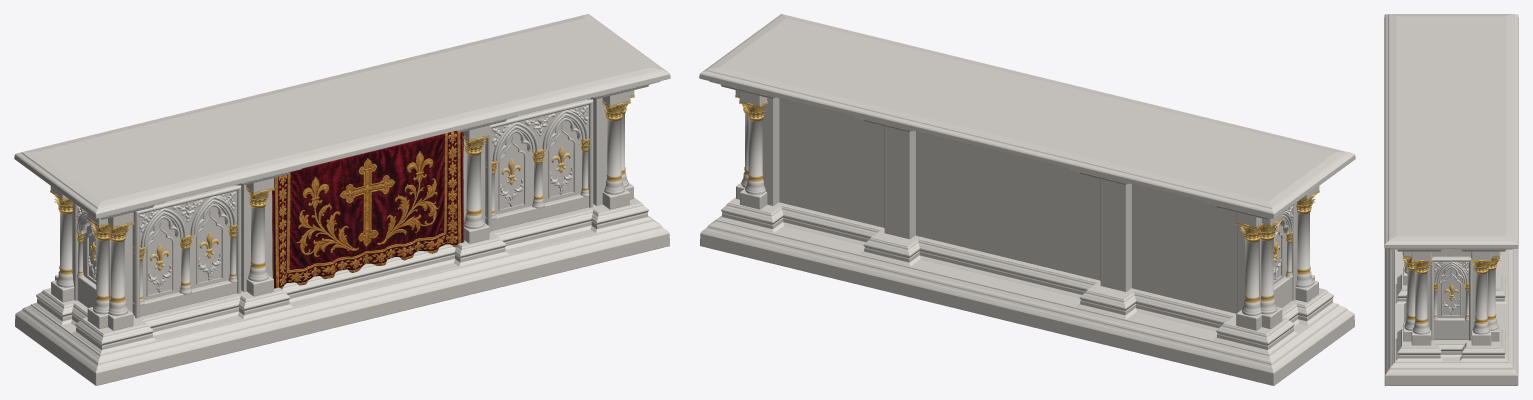
Rendered from altar.glb.
3 renders of one model, left to right at view 1: azimuth 30°, elevation 25°; view 2: azimuth 150°, elevation 25°; view 3: azimuth 270°, elevation 25°, orthographic. The views are drawn at different scales.
Parts seen in each view (by area): view 1: Altar.Mensa, Altar.Plinth, Frontal, Altar.Base, Altar.Body, Altar.BayFrontL.Arcade, Altar.BayFrontR.Arcade, Altar.BayFrontL.Ground, Altar.BayFrontR.Ground, Altar.BayFrontL.Frame, Altar.BayFrontR.Frame, Altar.BayFrontR.Arch0.Panel (+14 smaller); view 2: Altar.Body, Altar.Mensa, Altar.Plinth, Altar.Base, Altar.PierShaft.6.7, Altar.PierShaft.2.6, Altar.PierShaft.0.2, Altar.PierShaft.2.4, Altar.Frieze; view 3: Altar.Mensa, Altar.Plinth, Altar.Base, Altar.BayEndR.Arcade, Altar.Body, Altar.PierShaft.6.5, Altar.PierShaft.4.3, Altar.BayEndR.Frame, Altar.BayEndR.Arch0.Panel, Altar.PierShaft.4.1, Altar.PierShaft.6.7, Altar.BayEndR.Ground (+10 smaller).
Part boxes in pixels (bbox=[...]): Altar.Mensa: bbox=[14, 14, 670, 218]; Altar.Plinth: bbox=[15, 215, 669, 385]; Frontal: bbox=[272, 131, 464, 288]; Altar.Base: bbox=[33, 197, 651, 353]; Altar.Body: bbox=[72, 97, 607, 312]; Altar.BayFrontL.Arcade: bbox=[132, 185, 236, 316]; Altar.BayFrontR.Arcade: bbox=[485, 99, 588, 230]; Altar.BayFrontL.Ground: bbox=[143, 206, 229, 300]; Altar.BayFrontR.Ground: bbox=[495, 120, 581, 214]; Altar.BayFrontL.Frame: bbox=[135, 185, 241, 318]; Altar.BayFrontR.Frame: bbox=[487, 99, 593, 232]; Altar.BayFrontR.Arch0.Panel: bbox=[548, 124, 575, 198]; Altar.Body: bbox=[762, 97, 1297, 313]; Altar.Mensa: bbox=[699, 14, 1355, 218]; Altar.Plinth: bbox=[700, 215, 1354, 385]; Altar.Base: bbox=[718, 197, 1336, 353]; Altar.PierShaft.6.7: bbox=[745, 120, 765, 194]; Altar.PierShaft.2.6: bbox=[1241, 241, 1261, 315]; Altar.PierShaft.0.2: bbox=[1296, 213, 1313, 287]; Altar.PierShaft.2.4: bbox=[1260, 239, 1277, 314]; Altar.Frieze: bbox=[709, 81, 1271, 219]; Altar.Mensa: bbox=[1384, 14, 1518, 248]; Altar.Plinth: bbox=[1384, 248, 1518, 385]; Altar.Base: bbox=[1395, 258, 1507, 361]; Altar.BayEndR.Arcade: bbox=[1432, 256, 1470, 339]; Altar.Body: bbox=[1415, 248, 1487, 329]; Altar.PierShaft.6.5: bbox=[1472, 273, 1490, 334]; Altar.PierShaft.4.3: bbox=[1412, 273, 1430, 334]; Altar.BayEndR.Frame: bbox=[1430, 258, 1472, 340]; Altar.BayEndR.Arch0.Panel: bbox=[1441, 269, 1461, 315]; Altar.PierShaft.4.1: bbox=[1404, 269, 1414, 330]; Altar.PierShaft.6.7: bbox=[1488, 269, 1498, 330]; Altar.BayEndR.Ground: bbox=[1437, 268, 1465, 317].
Size of the model in its own units: 3.42 by 1 by 0.8422.
Materials: 3 (1 with a texture image).
